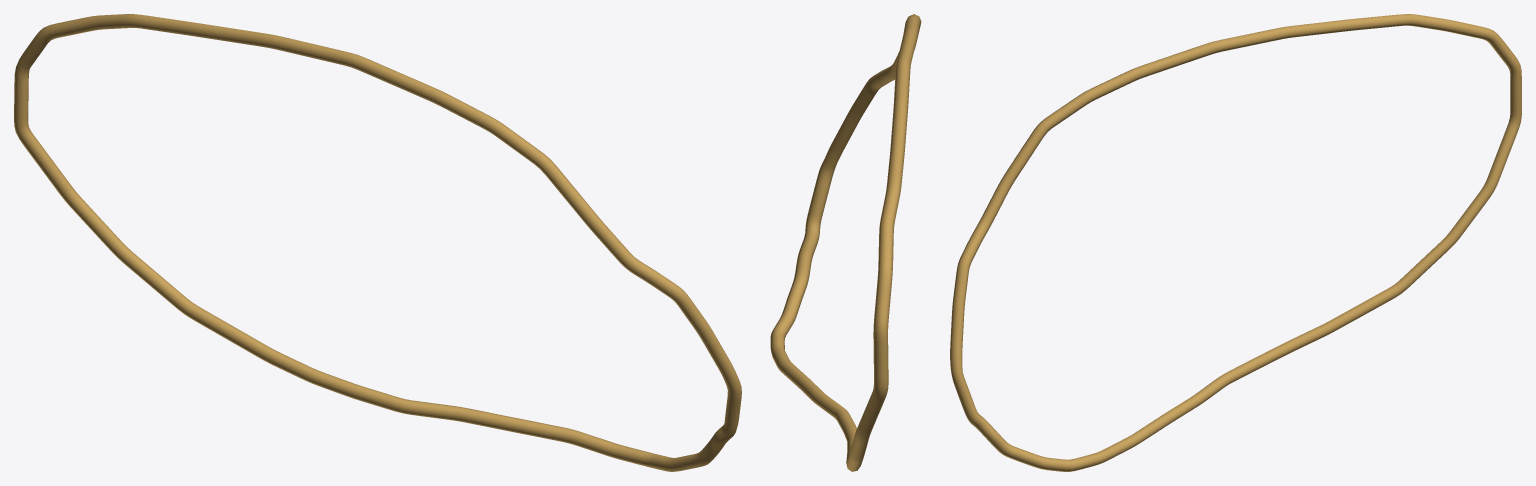
The picture shows the model from 3 angles, left to right: view 1: azimuth 30°, elevation 25°; view 2: azimuth 150°, elevation 25°; view 3: azimuth 270°, elevation 25°; orthographic projection. The views are drawn at different scales.
Visible parts, largest first — view 1: 左侧轮匝带; view 2: 左侧轮匝带; view 3: 左侧轮匝带.
Part boxes in pixels (left/top/right/bottom): 左侧轮匝带: left=14, top=14, right=741, bottom=471; 左侧轮匝带: left=770, top=14, right=921, bottom=471; 左侧轮匝带: left=950, top=14, right=1521, bottom=471.
Size of the model in its own units: 0.0455 by 0.0437 by 0.0663.
